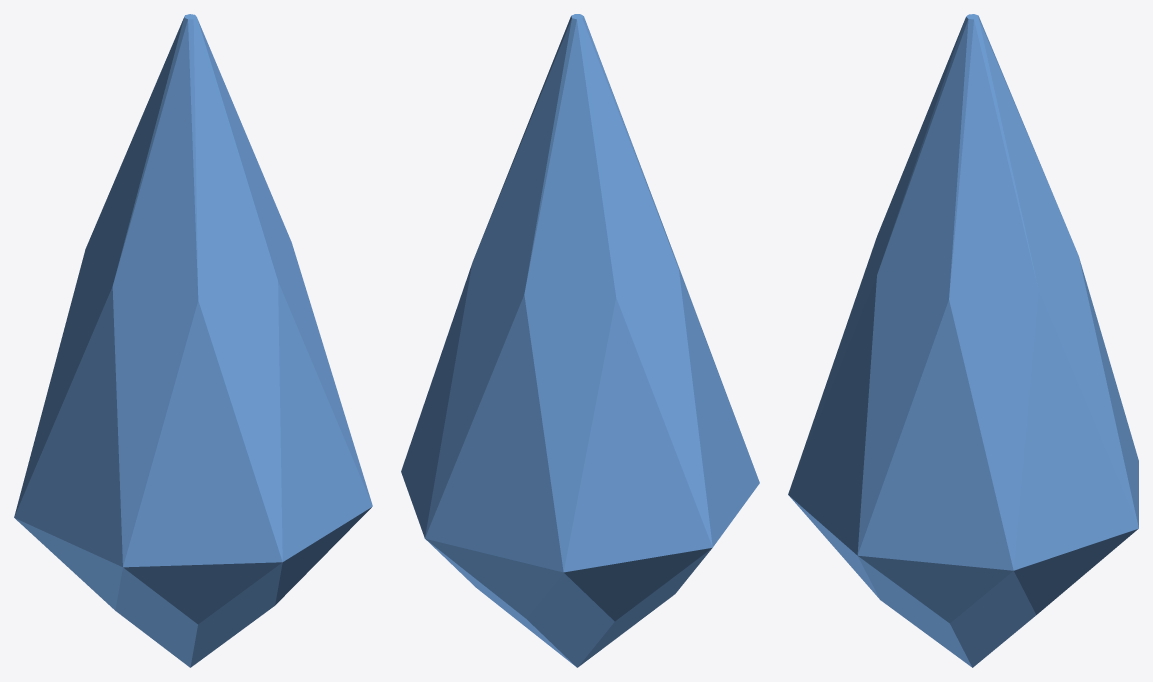
The model's file is Raindrop.fbx.
3 renders of one model, left to right at view 1: azimuth 30°, elevation 25°; view 2: azimuth 150°, elevation 25°; view 3: azimuth 270°, elevation 25°, orthographic.
Visible parts, largest first — view 1: Gem.009; view 2: Gem.009; view 3: Gem.009.
Boxes of the visible parts, x1,y1,x2,y2 form: Gem.009: (14, 14, 372, 667); Gem.009: (401, 14, 759, 667); Gem.009: (788, 14, 1138, 667).
Bounding box in the file's own units: 6.55 × 13.08 × 6.39.
